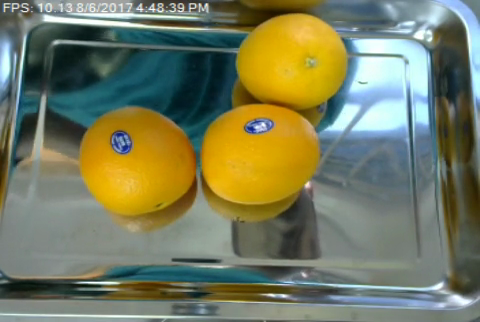Orange: (78, 105, 195, 215), (201, 103, 321, 206), (236, 11, 350, 107)
